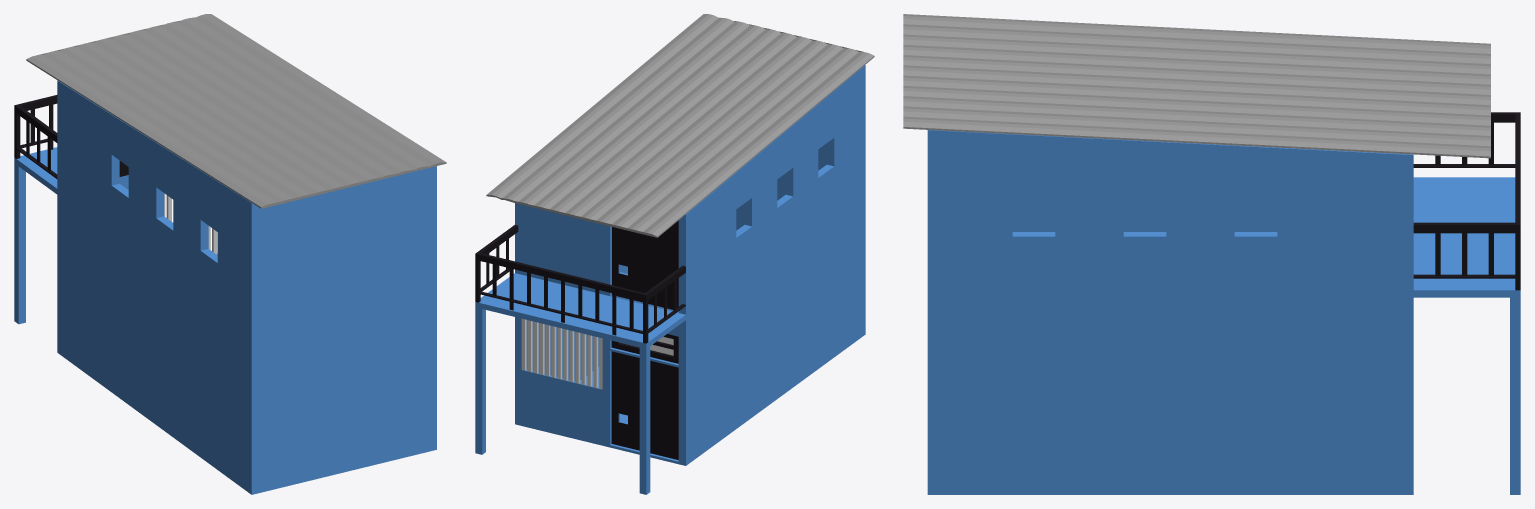
The model's file is MetalRoofHouse.fbx.
3 renders of one model, left to right at view 1: azimuth 30°, elevation 25°; view 2: azimuth 150°, elevation 25°; view 3: azimuth 270°, elevation 25°, orthographic. The views are drawn at different scales.
Visible parts, largest first — view 1: House; view 2: House; view 3: House.
Boxes of the visible parts, x1,y1,x2,y2 form: House: [14, 14, 446, 494]; House: [475, 14, 874, 494]; House: [903, 14, 1520, 494].
Bounding box in the file's own units: 5 × 7.64 × 11.55.
